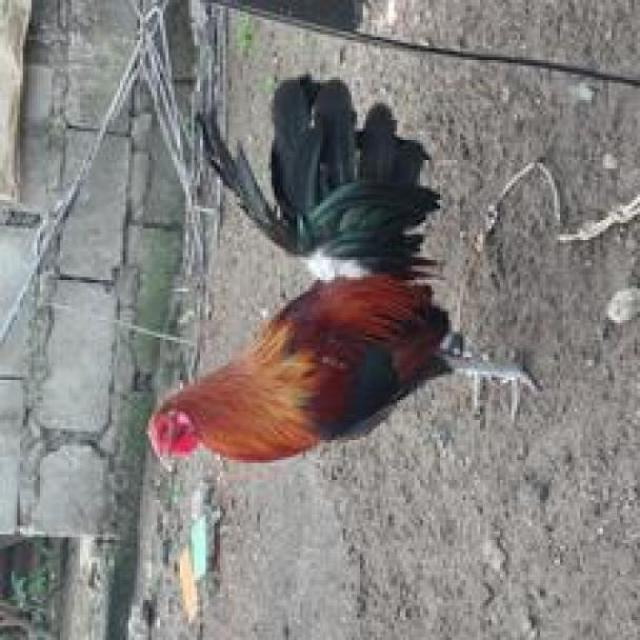Chicken: (122, 62, 563, 502)
